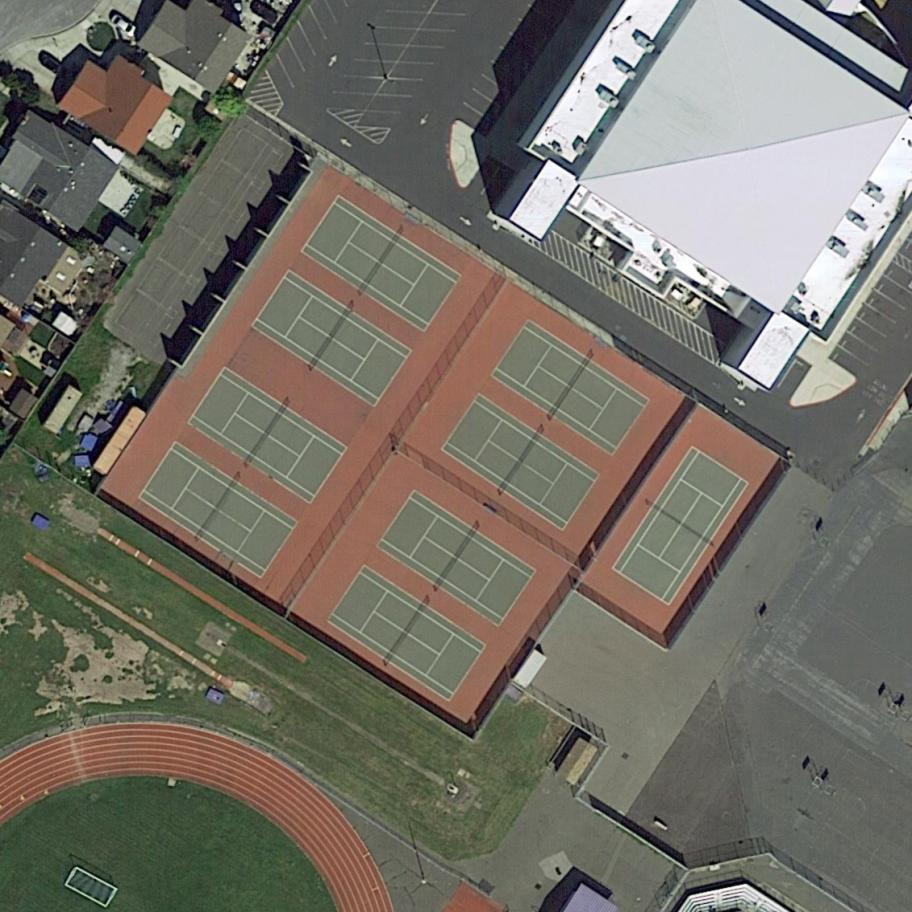small-vehicle: (109, 11, 138, 37)
